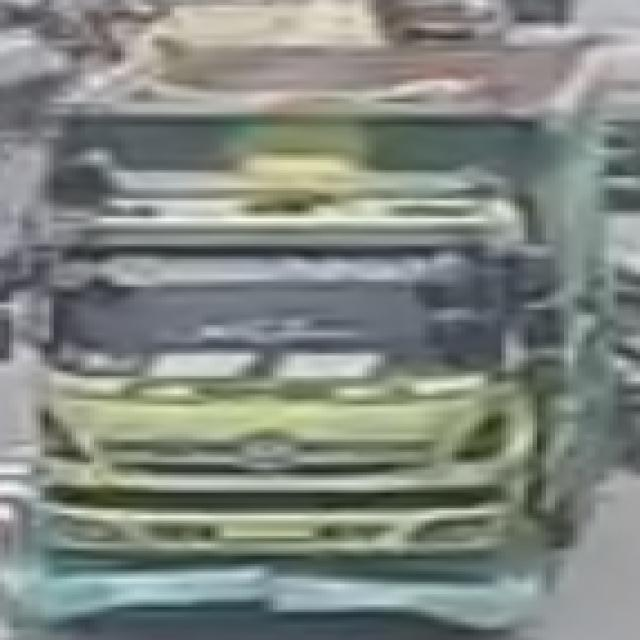truck: (26, 48, 628, 597)
